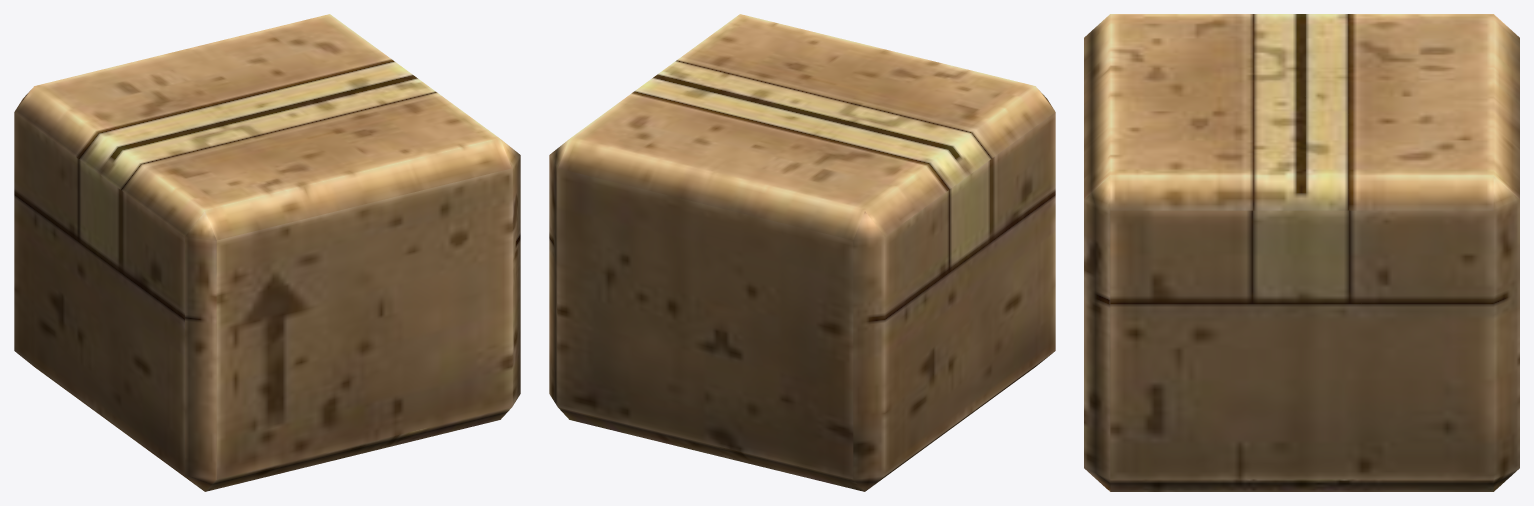
The model's file is caixa_papelao.glb.
The picture shows the model from 3 angles, left to right: view 1: azimuth 30°, elevation 25°; view 2: azimuth 150°, elevation 25°; view 3: azimuth 270°, elevation 25°; orthographic projection. The views are drawn at different scales.
Visible parts, largest first — view 1: caixa_papelao; view 2: caixa_papelao; view 3: caixa_papelao.
Part boxes in pixels (x1,y1,x2,y2): caixa_papelao: (14, 14, 520, 491); caixa_papelao: (549, 14, 1055, 491); caixa_papelao: (1084, 14, 1519, 491).
Bounding box in the file's own units: 0.3 × 0.24 × 0.3.
1 material, 1 textured.
